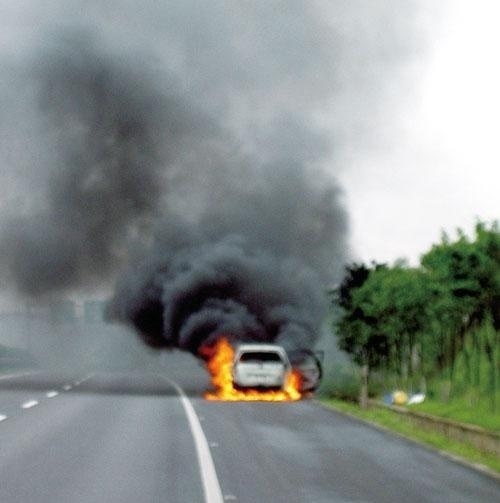fire: (197, 333, 312, 403)
